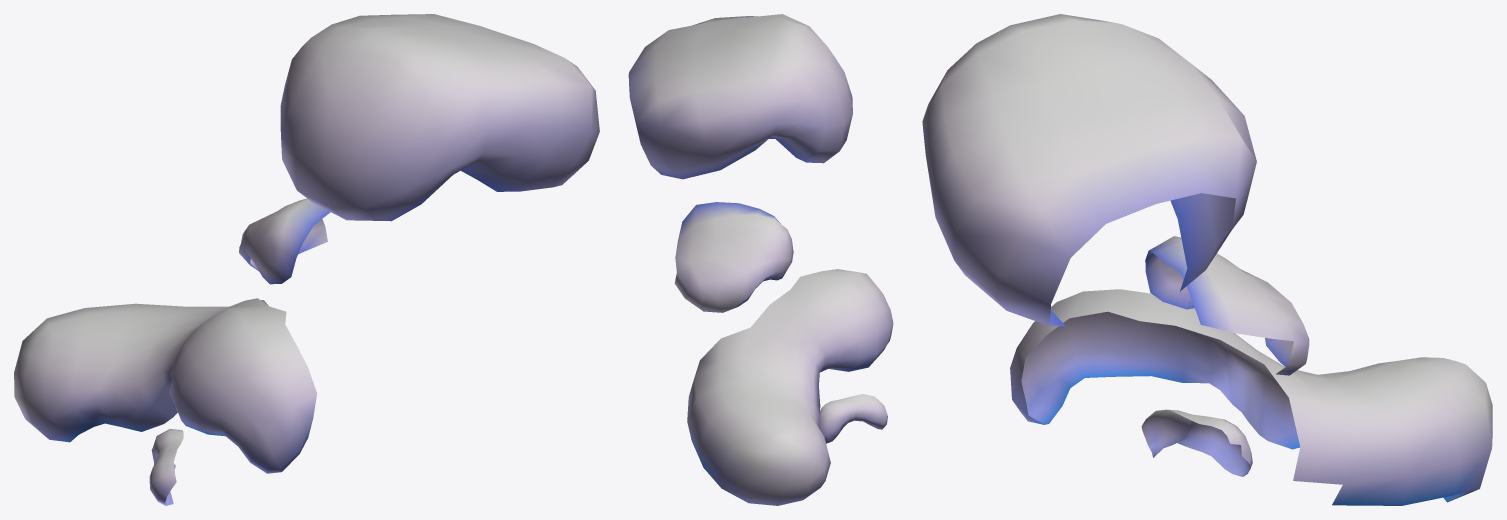
Rendered from TownMountainSnow.fbx.
3 renders of one model, left to right at view 1: azimuth 30°, elevation 25°; view 2: azimuth 150°, elevation 25°; view 3: azimuth 270°, elevation 25°, orthographic. The views are drawn at different scales.
Visible parts, largest first — view 1: TownMountainSnow; view 2: TownMountainSnow; view 3: TownMountainSnow.
Part boxes in pixels (x1=…): TownMountainSnow: x1=14, y1=14, x2=599, y2=505; TownMountainSnow: x1=628, y1=14, x2=893, y2=505; TownMountainSnow: x1=922, y1=14, x2=1492, y2=505.
Size of the model in its own units: 1969 by 2210 by 2066.
